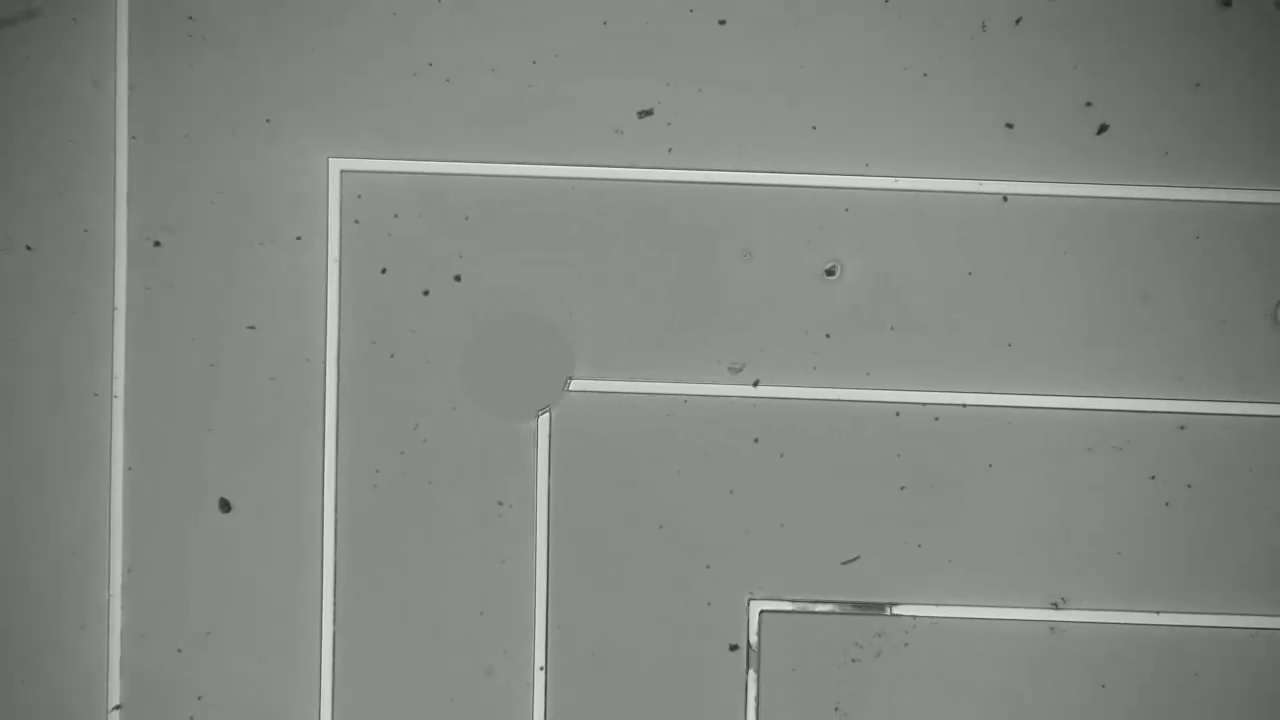gray_line: (814, 584, 910, 636), (740, 624, 771, 693)
open: (512, 353, 595, 451)
